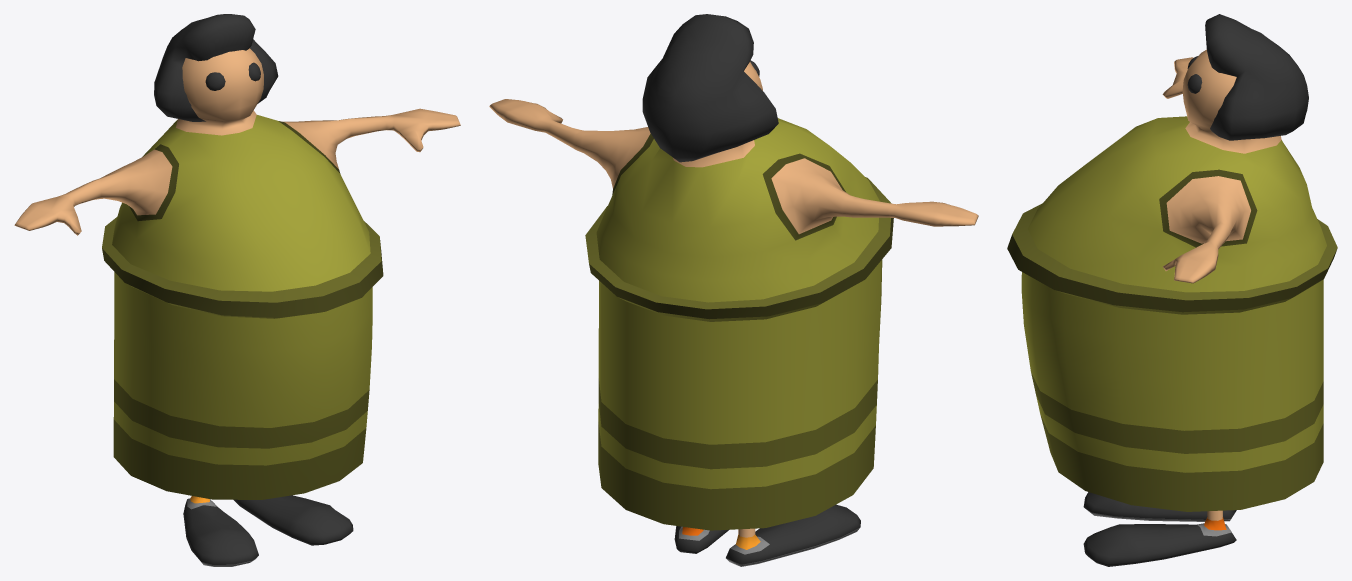
Rendered from Char_Mom_Unwrapped.FBX.
The picture shows the model from 3 angles, left to right: view 1: azimuth 30°, elevation 25°; view 2: azimuth 150°, elevation 25°; view 3: azimuth 270°, elevation 25°; orthographic projection. The views are drawn at different scales.
Visible parts, largest first — view 1: Char_Mom; view 2: Char_Mom; view 3: Char_Mom.
Part boxes in pixels (<box>): Char_Mom: <box>14,14,460,566</box>; Char_Mom: <box>489,14,978,566</box>; Char_Mom: <box>1007,14,1337,566</box>.
Size of the model in its own units: 245 by 260 by 153.
Materials: 1 (1 with a texture image).
